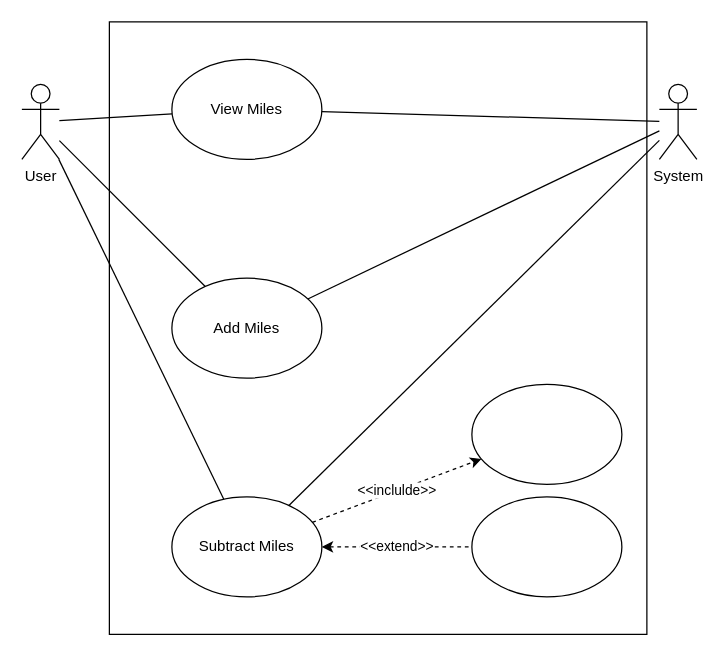
Image size: 725x656. Some labels were removed from this diagram. Here are the shapes that lost their labels. From the top down, the box of each, then its label:
(471, 383, 622, 484): Verify Sufficient Funds
(471, 496, 622, 597): Insufficient Funds Error
